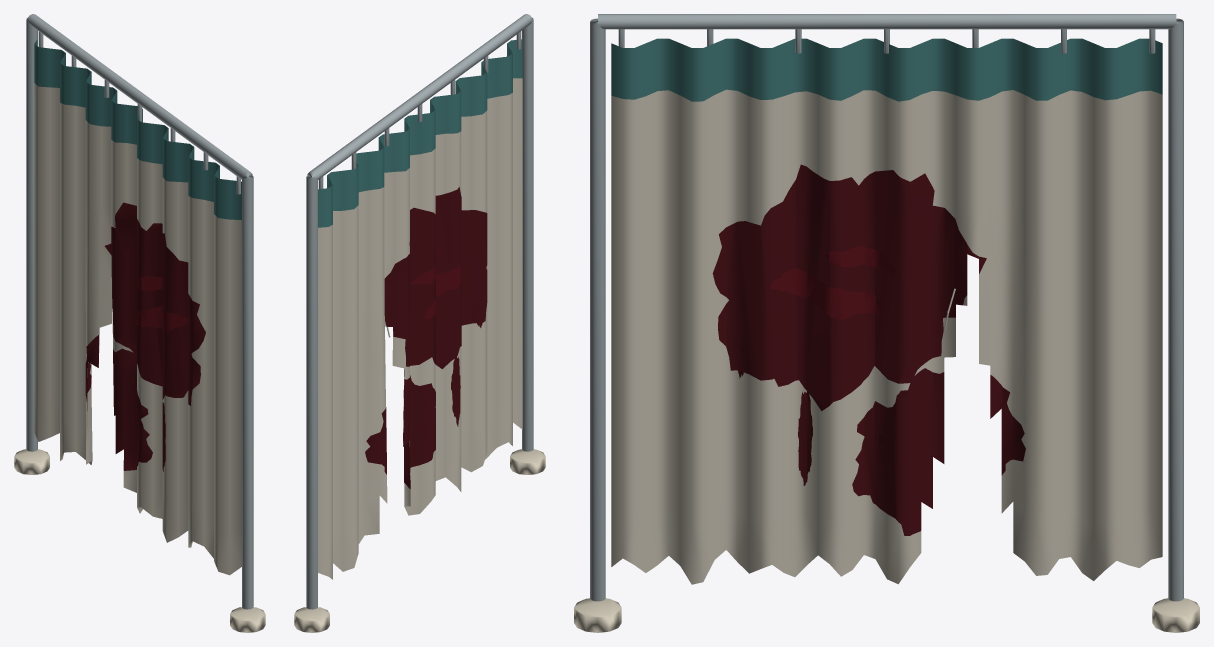
File: privacy_screen.glb
The picture shows the model from 3 angles, left to right: view 1: azimuth 30°, elevation 25°; view 2: azimuth 150°, elevation 25°; view 3: azimuth 270°, elevation 25°; orthographic projection. The views are drawn at different scales.
Parts seen in each view (by area): view 1: OB_PrivacyCurtain_01_Static; view 2: OB_PrivacyCurtain_01_Static; view 3: OB_PrivacyCurtain_01_Static.
Boxes of the visible parts, x1=… form: OB_PrivacyCurtain_01_Static: x1=14, y1=14, x2=265, y2=632; OB_PrivacyCurtain_01_Static: x1=294, y1=14, x2=545, y2=632; OB_PrivacyCurtain_01_Static: x1=574, y1=14, x2=1199, y2=632.
Bounding box in the file's own units: 0.1401 × 1.97 × 1.84.
